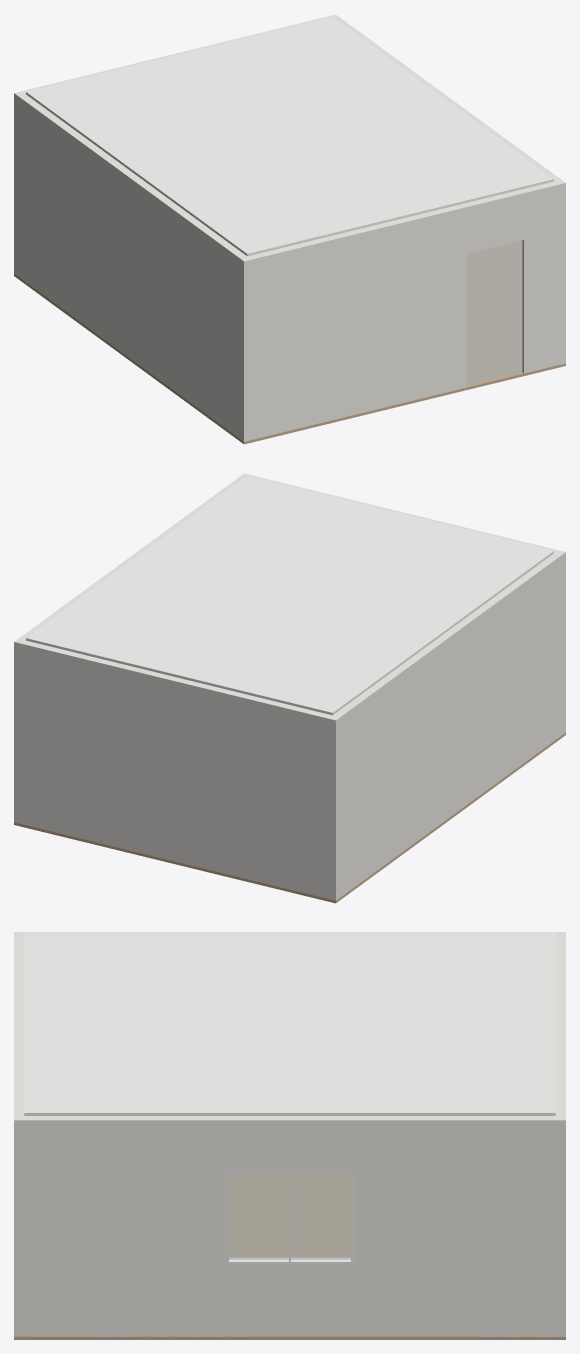
3 renders of one model, top to bottom at view 1: azimuth 30°, elevation 25°; view 2: azimuth 150°, elevation 25°; view 3: azimuth 270°, elevation 25°, orthographic. The views are drawn at different scales.
Parts seen in each view (by area): view 1: Ceiling, Wall_S, Wall_W, Door, Wall_E, Floor, Wall_N; view 2: Ceiling, Wall_N, Wall_W, Wall_E, Floor, Wall_S; view 3: Wall_E, Ceiling, Window, Floor, Wall_N, Wall_S, Wall_W.
Part boxes in pixels (box(x1,y1,x2,y2)): Ceiling: box(26, 17, 553, 256); Wall_S: box(247, 181, 558, 439); Wall_W: box(14, 91, 251, 441); Door: box(466, 240, 522, 385); Wall_E: box(329, 14, 565, 364); Floor: box(14, 273, 565, 444); Wall_N: box(22, 16, 329, 93); Ceiling: box(26, 476, 553, 715); Wall_N: box(21, 640, 332, 898); Wall_W: box(328, 550, 565, 900); Wall_E: box(14, 473, 250, 823); Floor: box(14, 732, 565, 903); Wall_S: box(250, 475, 557, 552); Wall_E: box(14, 1116, 565, 1336); Ceiling: box(24, 933, 555, 1115); Window: box(224, 1170, 355, 1265); Floor: box(14, 1175, 565, 1339); Wall_N: box(555, 936, 565, 1115); Wall_S: box(14, 936, 24, 1115); Wall_W: box(14, 932, 565, 936).
Size of the model in its own units: 5.12 by 2.82 by 6.34.
